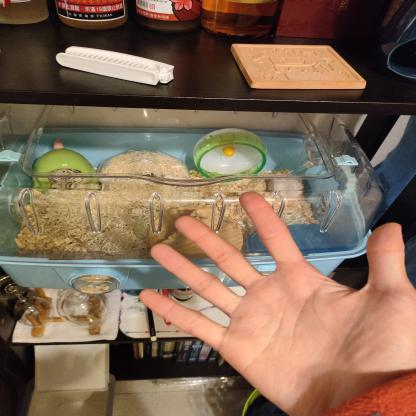bare_hand: (133, 185, 415, 415)
